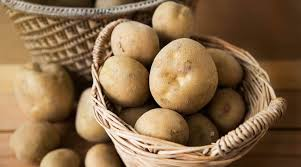potato: (151, 44, 223, 112), (99, 56, 150, 104), (132, 107, 188, 144), (111, 19, 162, 59), (213, 83, 243, 124), (152, 5, 193, 34)
